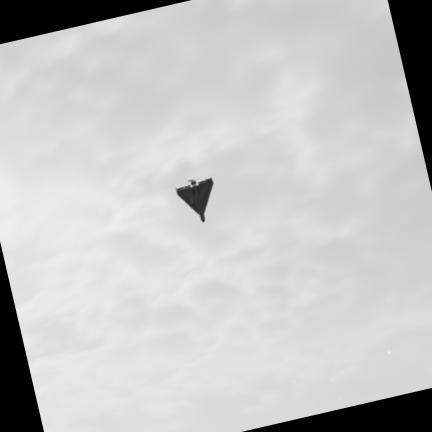Shahed: (177, 178, 213, 221)
